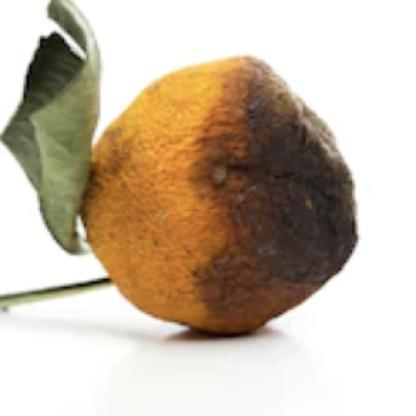rotten: (65, 53, 363, 336)
